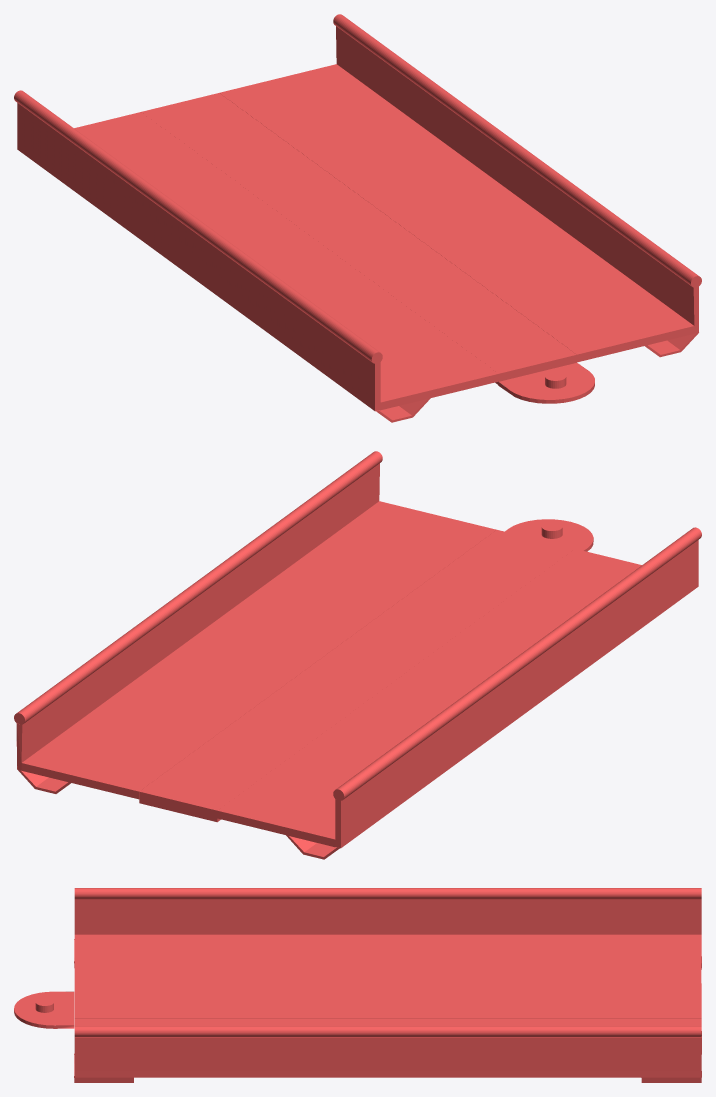
Rendered from trackpiece-md.glb.
3 views of the same model, one above another, from view 1: azimuth 30°, elevation 25°; view 2: azimuth 150°, elevation 25°; view 3: azimuth 270°, elevation 25° (orthographic). The views are drawn at different scales.
Visible parts, largest first — view 1: Track piece/short, Track piece/short.001; view 2: Track piece/short, Track piece/short.001; view 3: Track piece/short, Track piece/short.001.
Boxes of the visible parts, left/top/right/bottom form: Track piece/short: left=14, top=14, right=701, bottom=422; Track piece/short.001: left=498, top=363, right=594, bottom=403; Track piece/short: left=14, top=451, right=701, bottom=859; Track piece/short.001: left=505, top=519, right=593, bottom=551; Track piece/short: left=74, top=888, right=701, bottom=1082; Track piece/short.001: left=14, top=991, right=74, bottom=1028.
Bounding box in the file's own units: 8.34 × 1.78 × 17.17.
